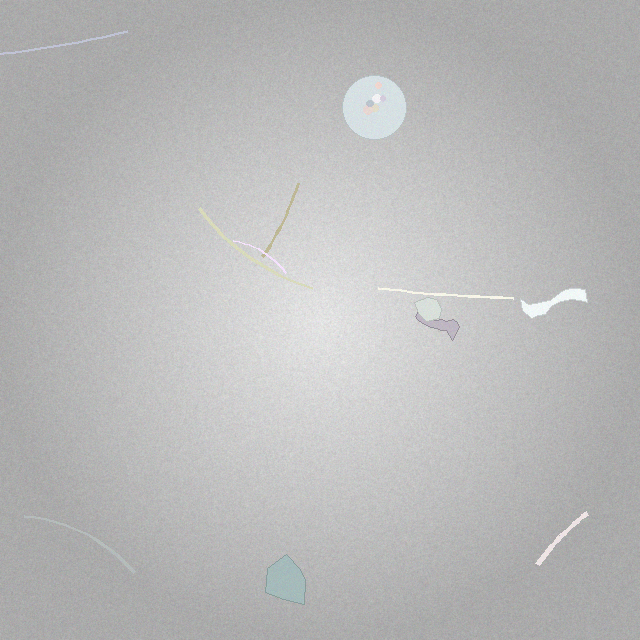fiber: (196, 205, 316, 292), (21, 513, 138, 576), (0, 28, 130, 59), (532, 507, 593, 570), (259, 180, 302, 260), (375, 285, 517, 301), (231, 238, 288, 275)
film: (520, 288, 588, 319), (415, 307, 460, 340)
foam: (343, 76, 406, 139)
fragment: (265, 554, 306, 604), (414, 297, 442, 322)
